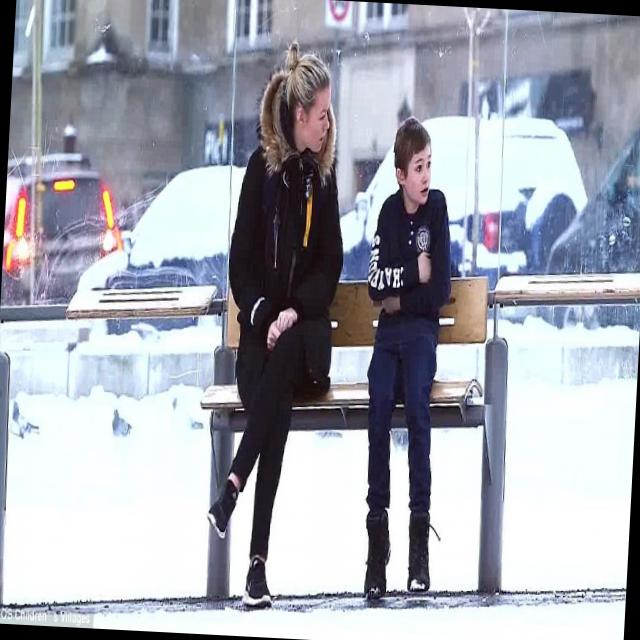Jacket: (221, 121, 350, 422), (360, 192, 462, 340)
